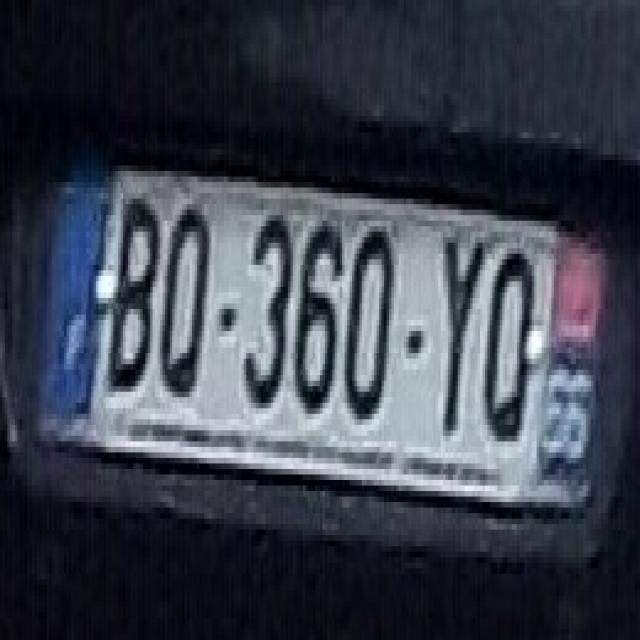EU: (31, 159, 604, 510)
France: (37, 180, 109, 427)
